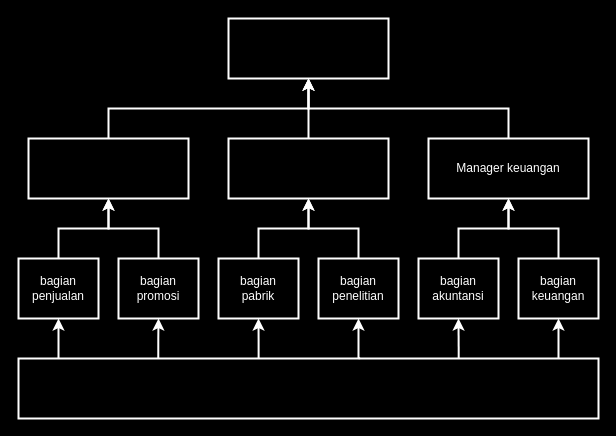
Some shapes in this 616 by 436 pixel diagram are drawn without their labels. The centre of each missing label's shape, as x and y in pixels:
karyawan: the point at 308,388
Manager pemasaran: the point at 108,168
Manager Umum: the point at 308,48
Managr produksi: the point at 308,168
